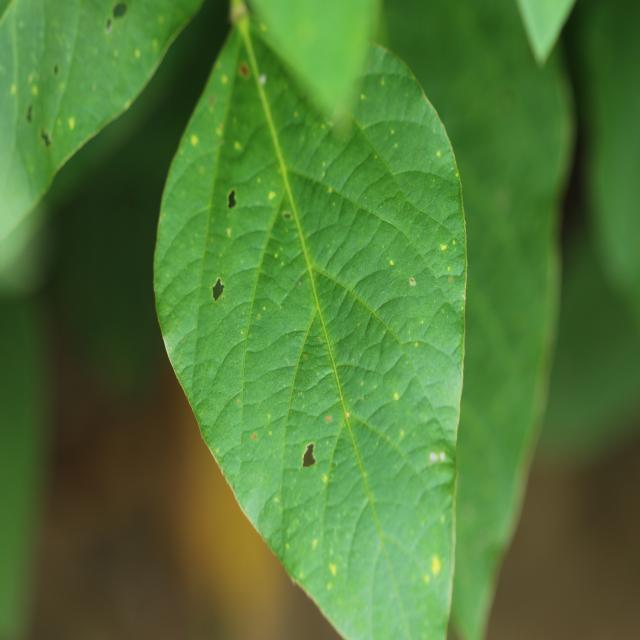Soybean: (4, 0, 635, 640)
downey_mildew: (272, 382, 444, 636), (185, 93, 301, 321), (302, 245, 436, 425), (530, 441, 640, 626), (469, 165, 563, 374), (237, 344, 362, 483), (71, 4, 202, 130), (268, 173, 377, 316), (237, 2, 373, 116), (20, 104, 137, 223), (161, 320, 240, 488), (222, 373, 298, 539), (369, 293, 464, 405), (212, 38, 280, 190), (350, 407, 447, 511), (14, 10, 81, 157), (290, 286, 356, 429), (521, 224, 565, 435), (157, 142, 229, 267), (369, 112, 466, 200), (261, 548, 366, 627), (226, 244, 304, 350), (372, 227, 450, 327), (274, 443, 332, 570), (359, 517, 417, 640), (204, 330, 274, 431), (237, 205, 260, 511), (266, 86, 342, 176), (371, 232, 433, 331), (319, 420, 352, 600), (357, 69, 443, 138), (309, 130, 383, 209), (161, 267, 226, 348), (188, 431, 243, 523), (238, 318, 303, 391), (0, 142, 41, 256), (199, 201, 277, 260), (513, 2, 585, 63), (323, 455, 375, 532), (321, 361, 390, 415), (187, 83, 230, 161), (204, 391, 248, 461), (422, 229, 463, 301), (273, 261, 320, 322), (7, 0, 23, 161), (456, 174, 469, 351), (427, 302, 466, 358), (457, 299, 468, 483), (423, 435, 459, 482), (239, 294, 279, 332), (105, 1, 131, 39), (327, 112, 354, 145), (421, 552, 445, 588), (228, 1, 248, 25), (301, 442, 317, 469), (290, 564, 308, 587), (211, 277, 226, 301), (162, 335, 175, 360), (112, 2, 129, 20), (429, 450, 445, 465), (438, 239, 455, 253), (40, 129, 52, 147), (227, 188, 237, 209), (431, 556, 441, 575), (239, 63, 250, 78), (25, 104, 34, 122), (282, 210, 293, 221), (329, 562, 337, 576), (190, 134, 199, 146), (105, 20, 112, 34), (259, 73, 267, 85), (217, 123, 224, 136), (68, 117, 75, 130), (53, 63, 60, 75), (268, 190, 276, 200), (234, 141, 242, 151), (423, 573, 430, 584), (439, 451, 446, 462), (209, 94, 216, 104), (226, 227, 232, 238), (32, 85, 38, 96), (134, 48, 140, 59), (10, 84, 16, 95), (312, 539, 318, 550), (152, 39, 158, 50), (221, 76, 228, 85), (399, 428, 405, 438), (28, 73, 34, 83), (440, 243, 447, 251), (325, 415, 332, 423), (394, 391, 400, 400), (327, 582, 333, 591), (322, 475, 328, 483), (360, 93, 366, 100), (252, 432, 257, 440), (298, 570, 303, 578), (436, 150, 441, 157), (328, 186, 333, 193), (274, 252, 279, 259), (389, 259, 394, 266), (345, 411, 350, 418), (274, 496, 279, 503), (285, 357, 290, 364), (285, 542, 290, 549), (462, 294, 466, 302), (360, 379, 364, 387), (390, 129, 395, 135), (449, 276, 454, 282), (215, 448, 220, 454), (297, 280, 302, 286), (257, 313, 261, 320), (240, 329, 244, 336), (322, 160, 326, 167), (232, 483, 236, 490), (455, 172, 459, 178), (262, 306, 266, 312), (280, 261, 284, 267), (452, 239, 456, 245), (267, 413, 271, 419), (269, 430, 273, 436), (278, 304, 282, 310), (394, 142, 398, 148), (318, 336, 322, 342), (211, 237, 215, 243), (237, 398, 241, 404), (357, 322, 361, 328), (181, 336, 185, 342), (304, 354, 308, 360), (461, 304, 464, 311), (282, 383, 286, 388), (447, 266, 450, 272), (341, 396, 344, 402), (222, 295, 225, 300), (352, 244, 355, 249)
